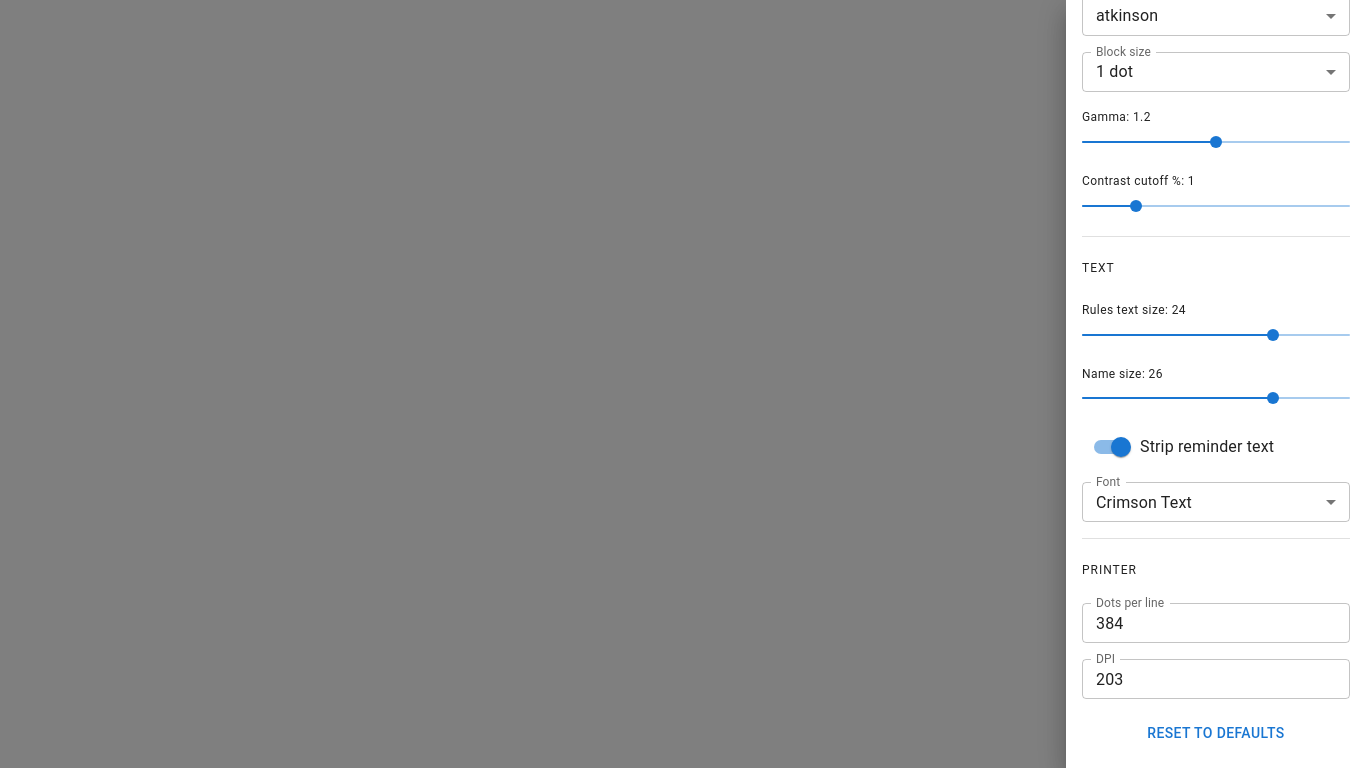
SettingsDrawer printer fields › commits DPI on Enter and clamps out-of-range input only then
(page scrolled)
Replace the text in the number field labelled "DPI" with "300": coordinates (1216, 679) [1082, 659, 1350, 699]
Then press Enter
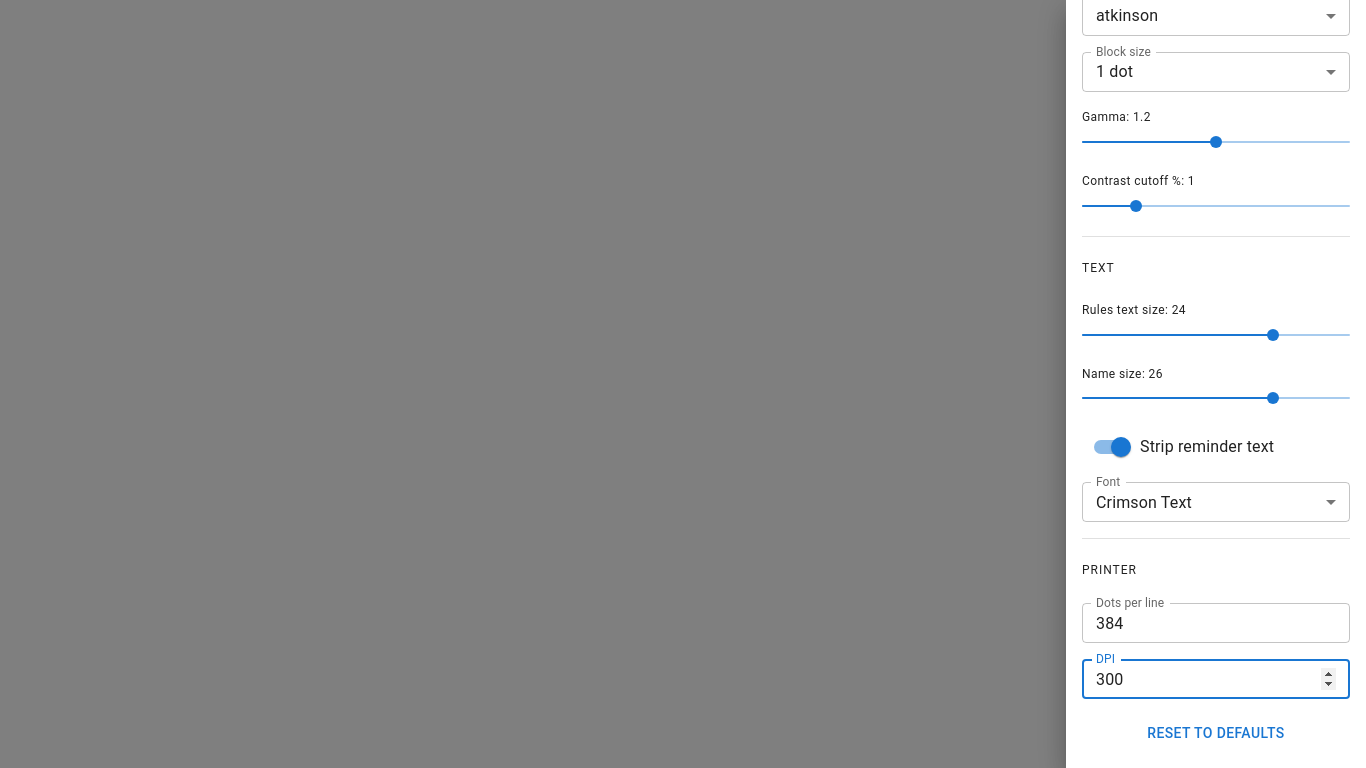
Replace the text in the number field labelled "DPI" with "9999": coordinates (1216, 679) [1082, 659, 1350, 699]
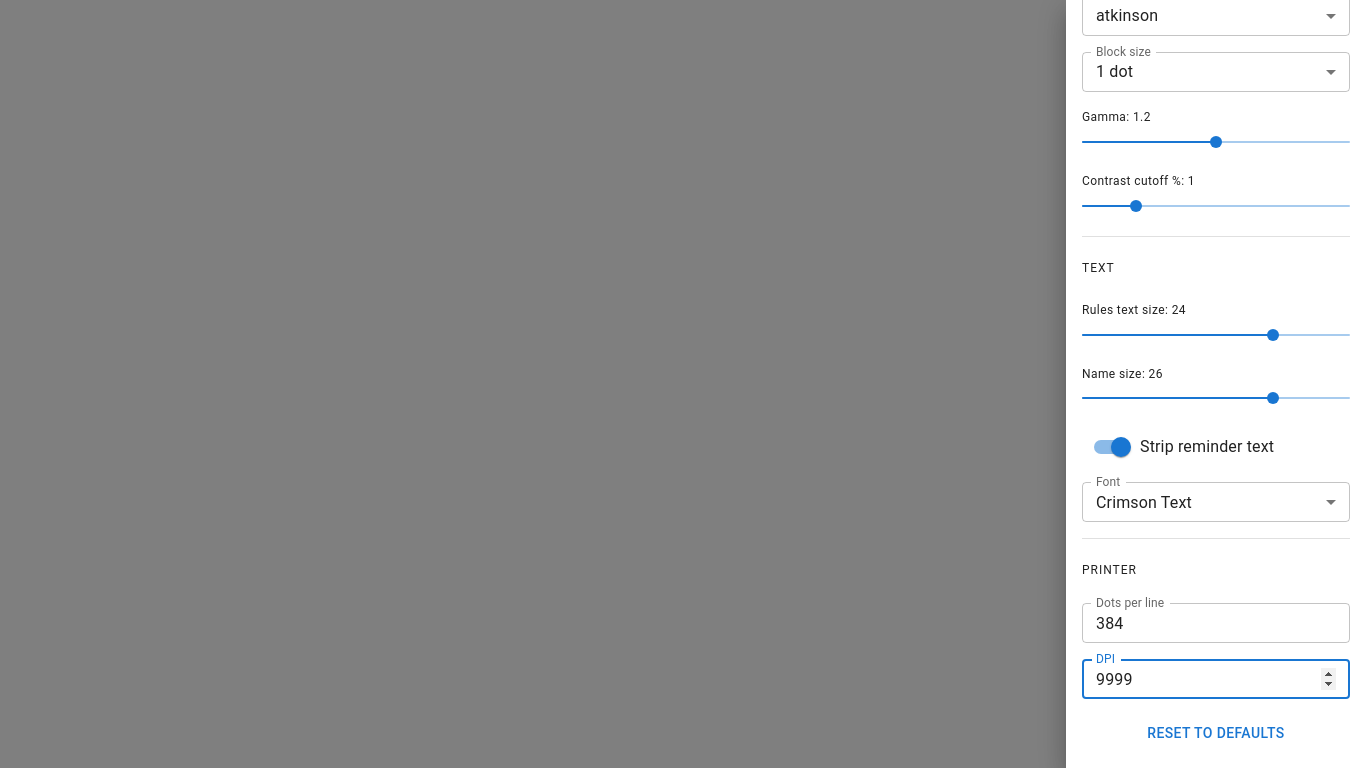
Press Tab
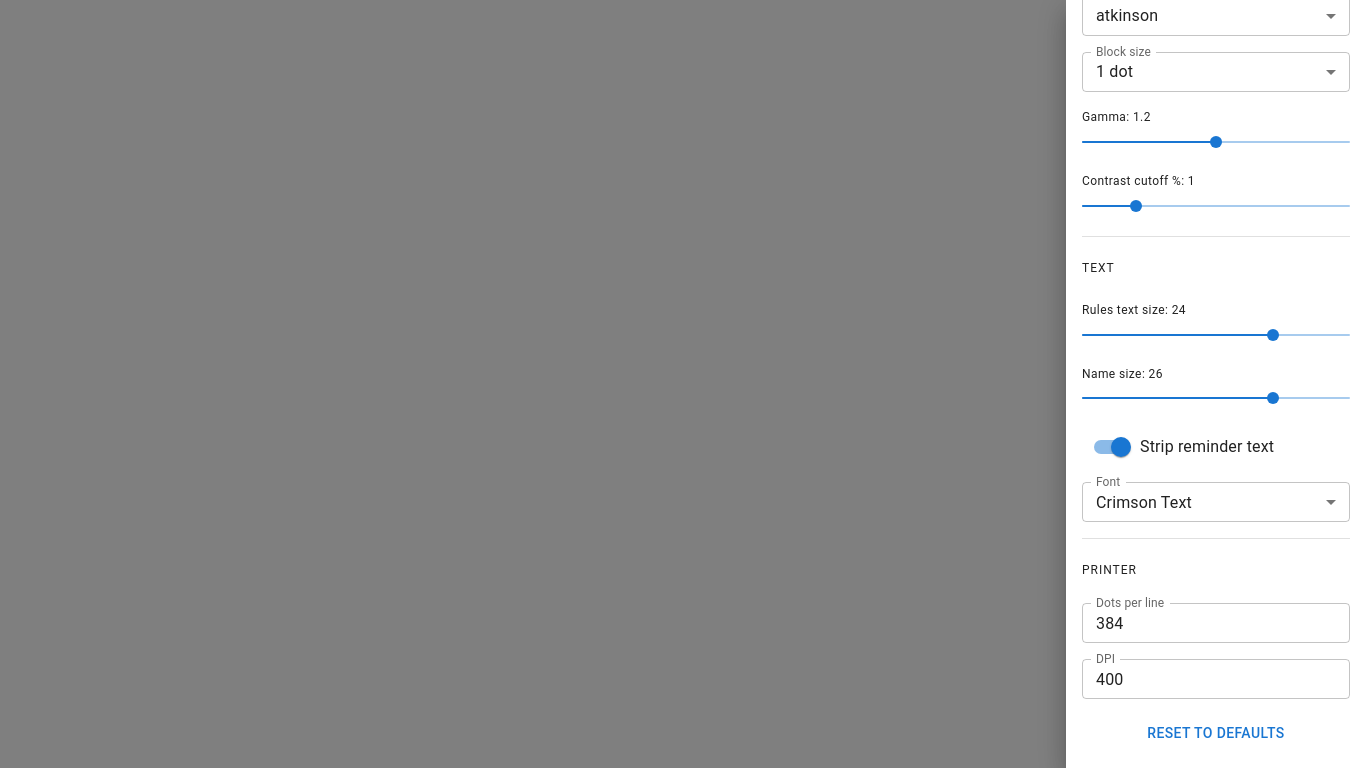
Expected: the number field labelled "DPI" holds "400", [1082, 659, 1350, 699]
